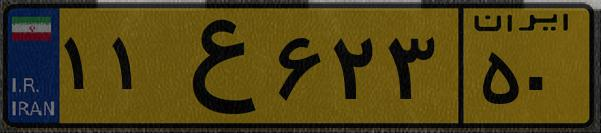0: (525, 38, 570, 115)
1: (57, 26, 110, 100), (110, 28, 158, 98)
2: (330, 28, 385, 110)
3: (385, 28, 445, 110)
5: (475, 38, 525, 113)
6: (270, 28, 330, 110)
ع: (158, 12, 270, 120)
